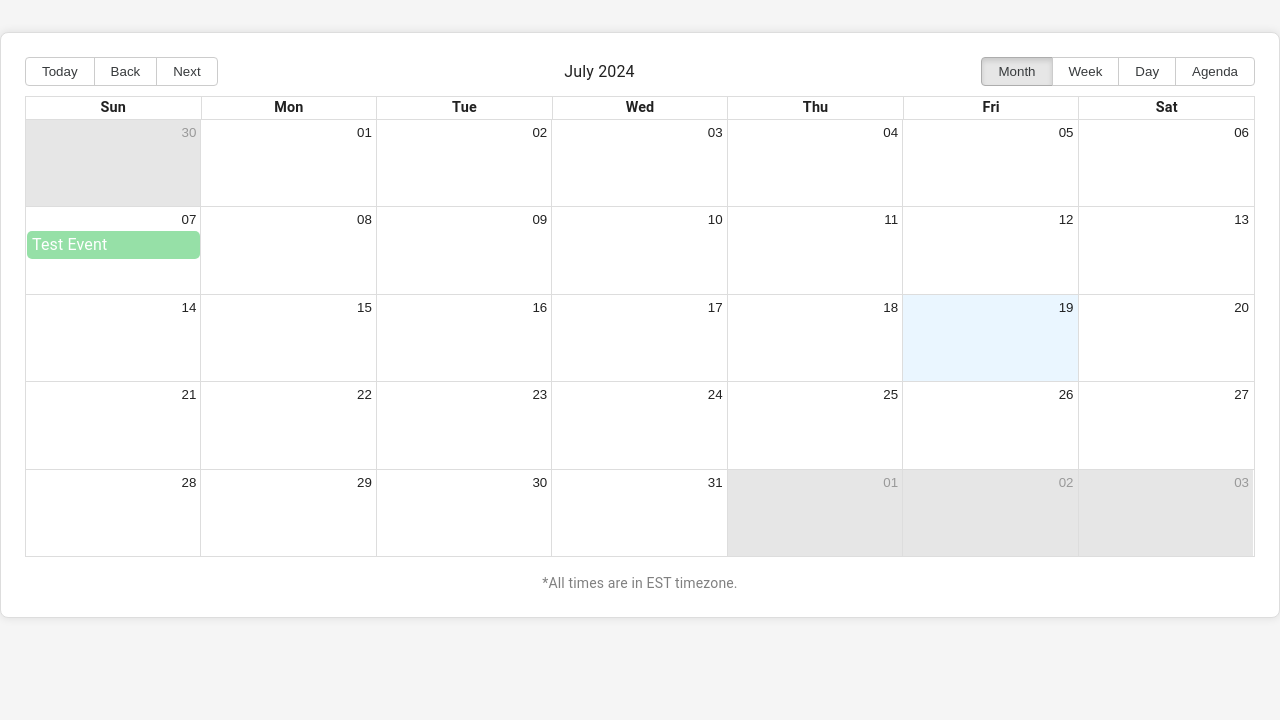
it: renders EventCalendar and shows event details in modal
This screenshot has width=1280, height=720.
What coordinates should you click on to do the following:
click the text "Test Event"
I would click on:
 (70, 245)
Its box is left=32, top=235, right=107, bottom=254.
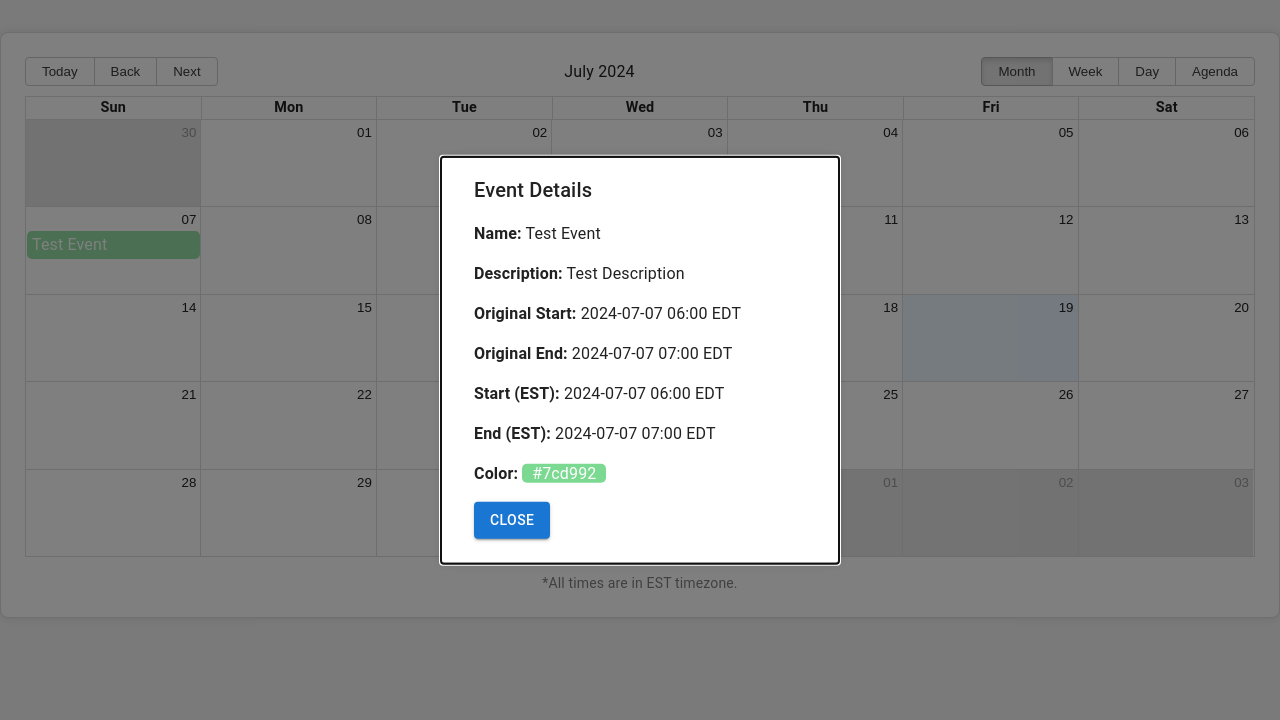
expect the heading "Event Details" is shown: met, box left=474, top=178, right=592, bottom=202
expect the text "Description: Test Description" is shown: met, box left=474, top=264, right=685, bottom=283
